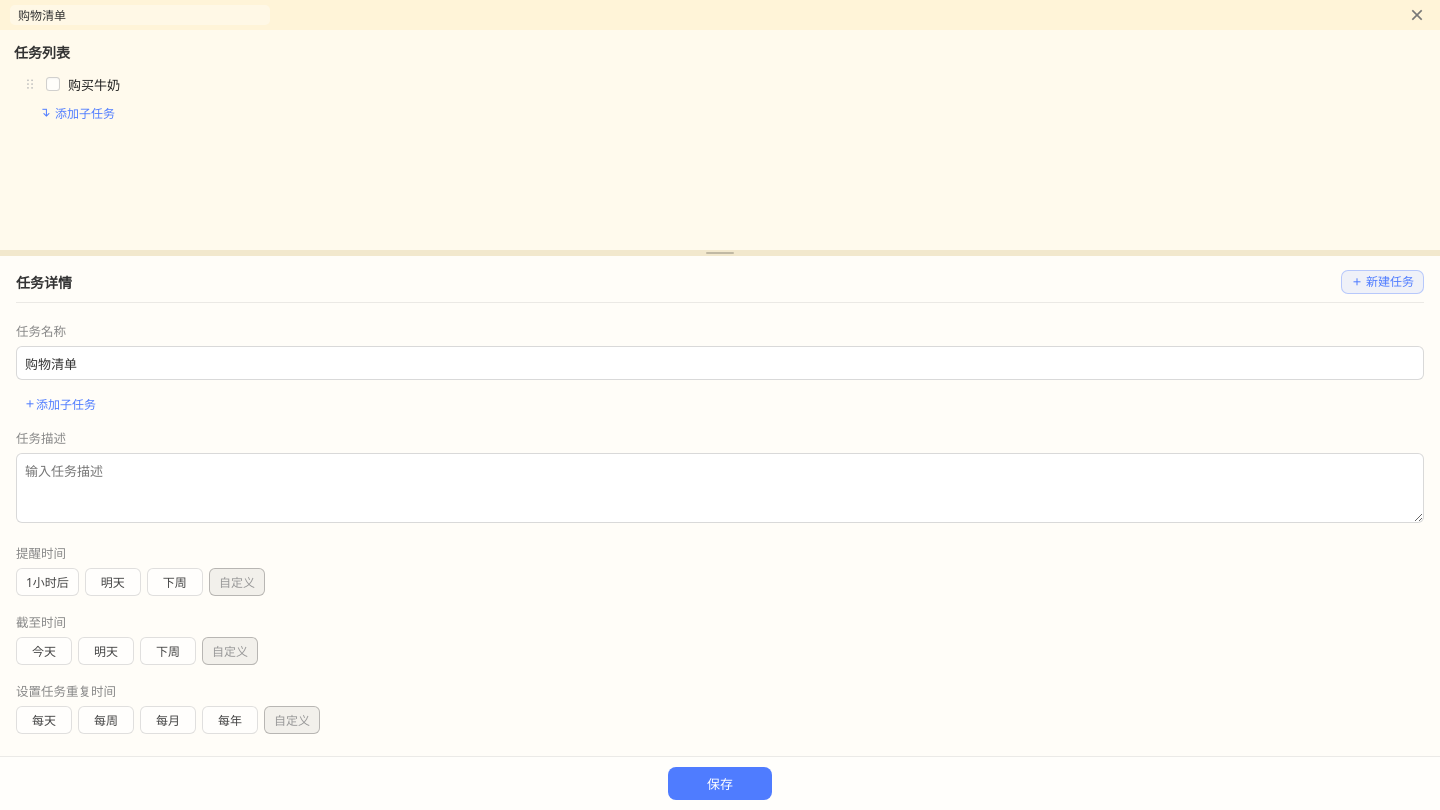
Todo 提醒功能链路 › 点「明天」预设：写入 due_at，面板显示「截至时间 - …」
What coordinates should you click on to do the following:
click the button "明天" below "截至时间"
I would click on:
 (106, 651)
Its box is x1=78 y1=637 x2=134 y2=665.
Wait 300 ms
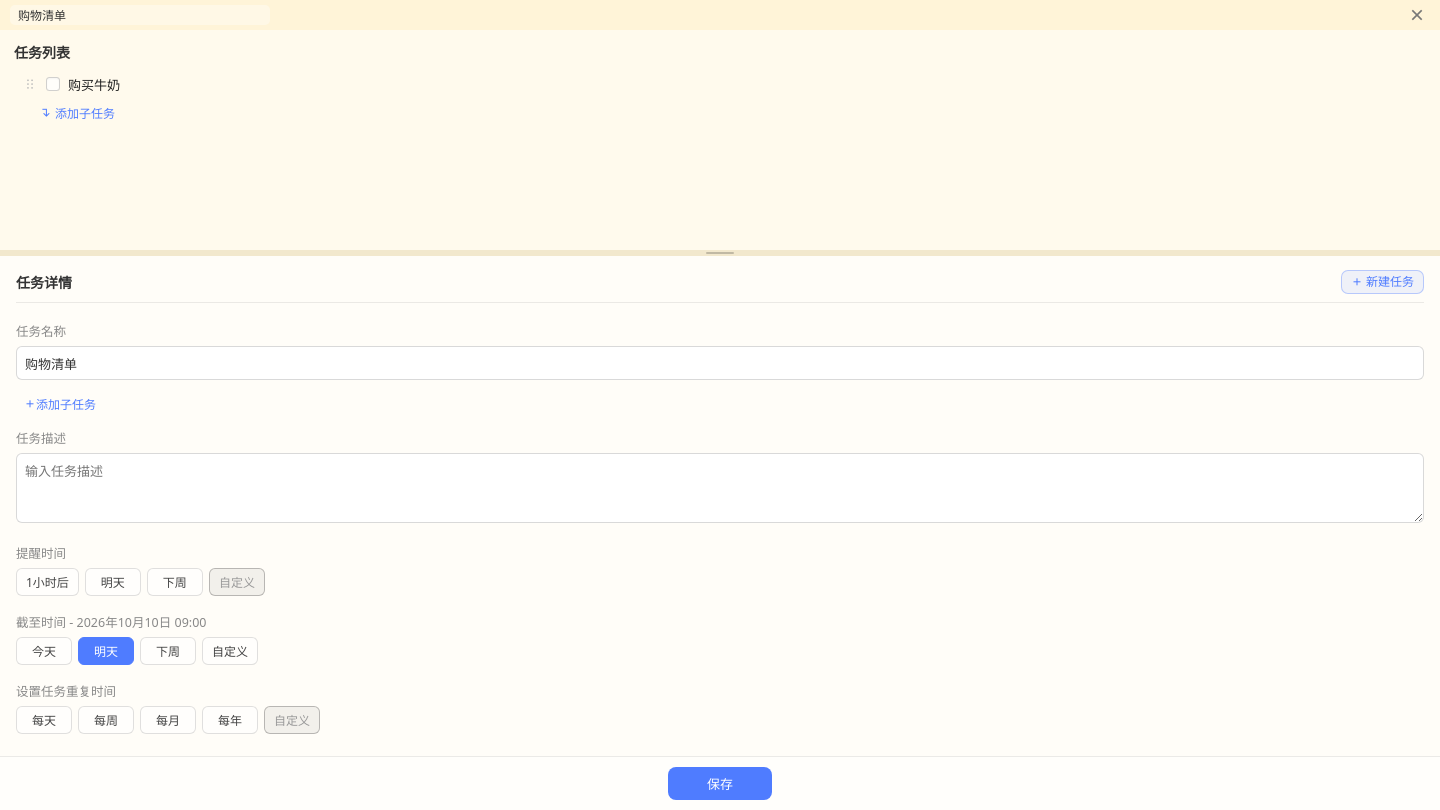
Now the text with class "field-label" reads "截至时间 - 2026年10月10日 09:00", box x1=16 y1=614 x2=206 y2=631
